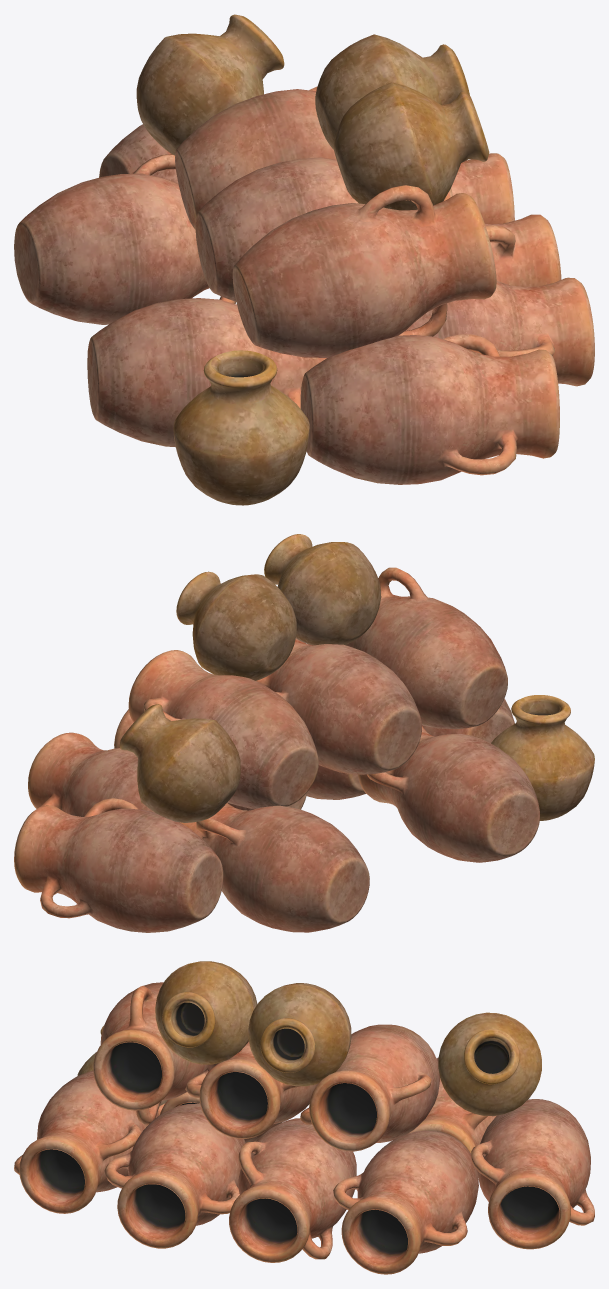
3 views of the same model, one above another, from view 1: azimuth 30°, elevation 25°; view 2: azimuth 150°, elevation 25°; view 3: azimuth 270°, elevation 25° (orthographic). The views are drawn at different scales.
Parts seen in each view (by area): view 1: SM_Moon_Garou_Vases_Set_04v1_LOD0; view 2: SM_Moon_Garou_Vases_Set_04v1_LOD0; view 3: SM_Moon_Garou_Vases_Set_04v1_LOD0.
Part boxes in pixels (x1,y1,x2,y2): SM_Moon_Garou_Vases_Set_04v1_LOD0: (14,14,594,505); SM_Moon_Garou_Vases_Set_04v1_LOD0: (14,534,594,932); SM_Moon_Garou_Vases_Set_04v1_LOD0: (14,961,594,1274).
Bounding box in the file's own units: 2.89 × 1.72 × 3.7.
1 material, 1 textured.
